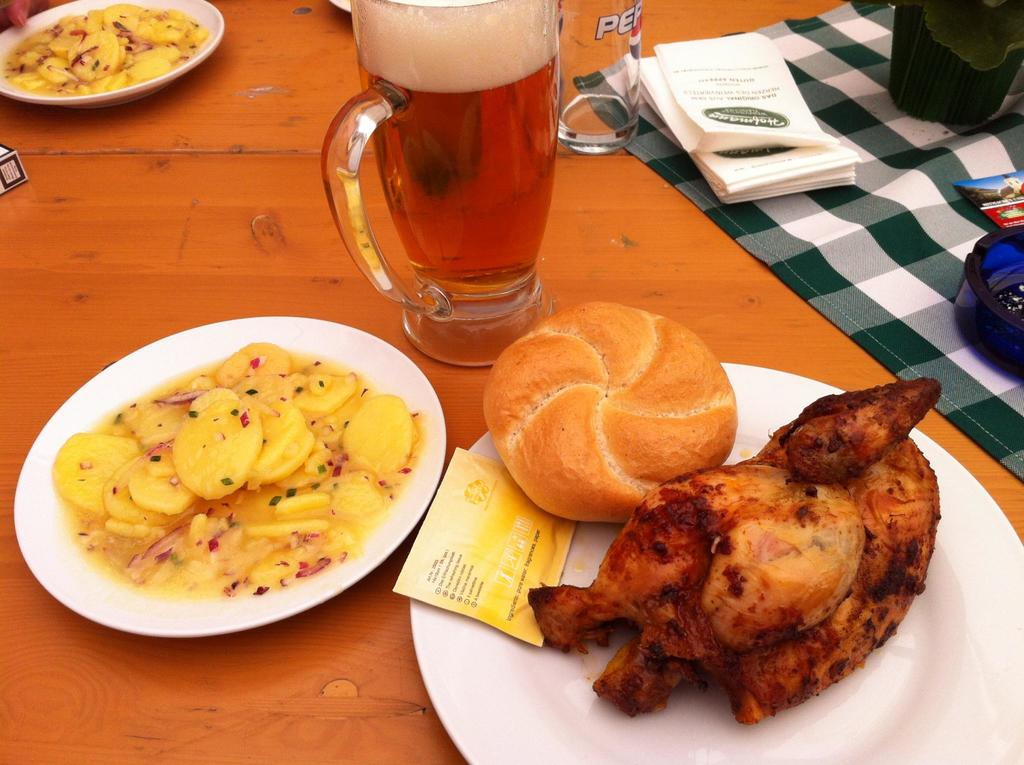Beer: (326, 3, 561, 387)
